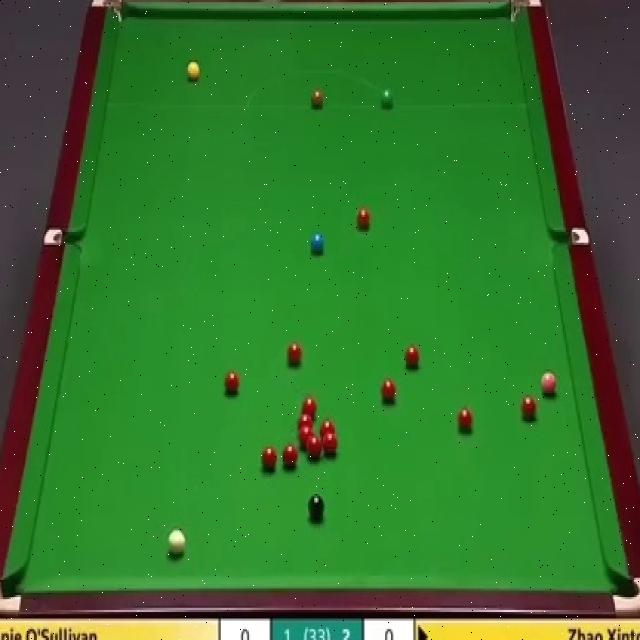black-ball: (308, 493, 325, 521)
blue-ball: (310, 232, 324, 251)
brown-ball: (310, 90, 324, 108)
green-ball: (380, 87, 394, 108)
pink-ball: (539, 371, 559, 398)
red-ball: (306, 436, 322, 463), (521, 396, 538, 420), (322, 433, 340, 455), (380, 379, 398, 401), (261, 446, 278, 469), (286, 341, 303, 364), (223, 372, 240, 394), (282, 444, 298, 467), (458, 408, 472, 434), (357, 208, 371, 230), (406, 346, 419, 368), (320, 419, 335, 438), (298, 429, 312, 449), (304, 396, 315, 419), (298, 417, 312, 435)
white-ball: (167, 526, 187, 559)
yellow-ball: (186, 60, 200, 82)
